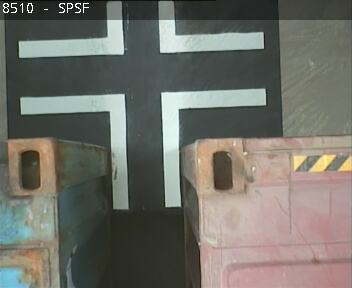groundmarker_1: (18, 88, 265, 207), (18, 1, 263, 57)
